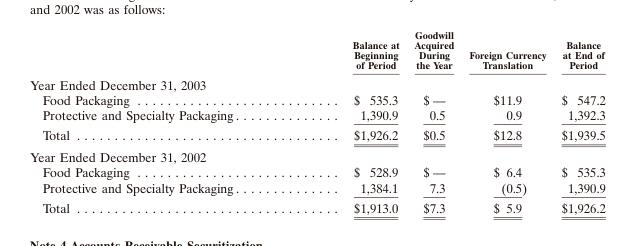table: (29, 28, 604, 214)
table column: (29, 28, 295, 214), (295, 28, 406, 214), (460, 28, 553, 214), (406, 28, 460, 214), (553, 28, 604, 214)
table column header: (29, 28, 604, 73)
table projected row header: (29, 145, 604, 164), (29, 73, 604, 91)
table row: (29, 28, 604, 73), (29, 124, 604, 145), (29, 145, 604, 164), (29, 73, 604, 91), (29, 106, 604, 124), (29, 179, 604, 197), (29, 197, 604, 214), (29, 91, 604, 106), (29, 164, 604, 179)
